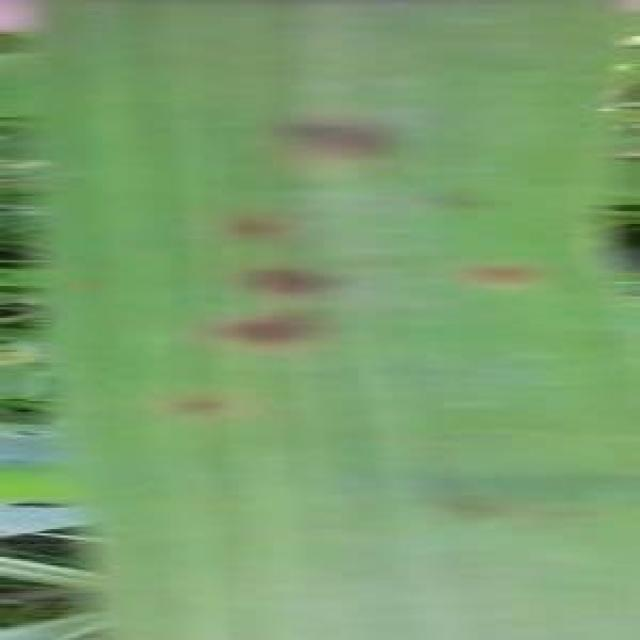Brown_Spot: (257, 112, 410, 175), (203, 313, 345, 357), (229, 260, 347, 303), (206, 202, 301, 247), (445, 257, 548, 292), (174, 390, 232, 431)
